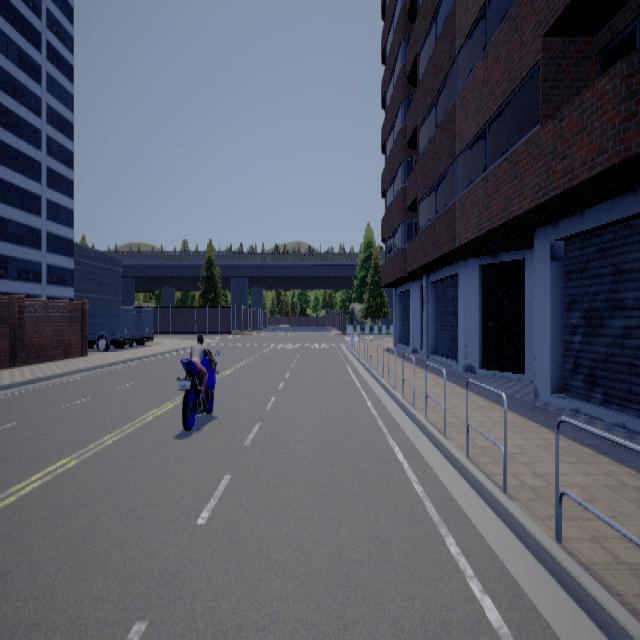motobike: (175, 335, 221, 430)
vehicle: (87, 303, 153, 350)
